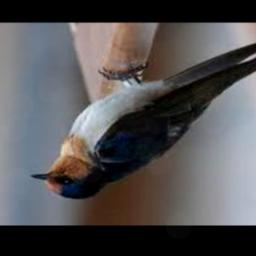Swallow: (30, 26, 256, 200)
